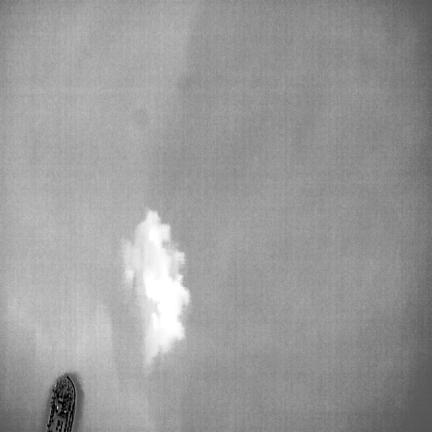flukeprints: (124, 211, 189, 367)
